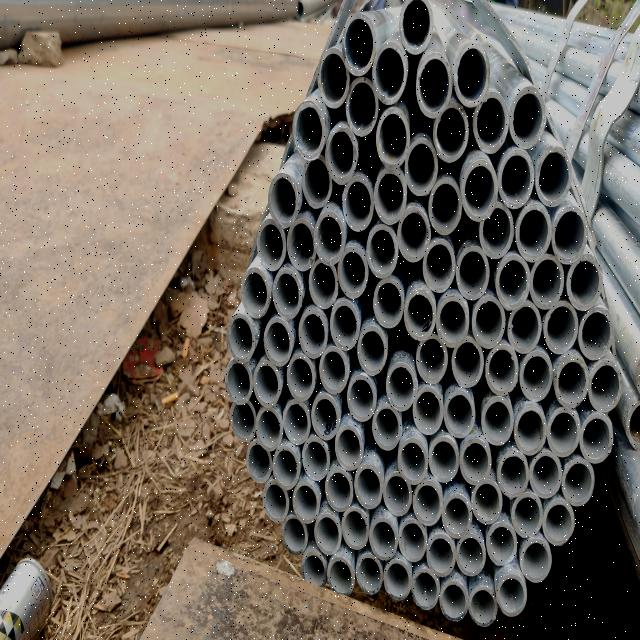pipe: (415, 48, 453, 120), (508, 84, 548, 152), (369, 41, 408, 109), (534, 146, 574, 210), (454, 40, 489, 112), (496, 146, 534, 212), (403, 135, 442, 199), (462, 158, 499, 224), (433, 99, 471, 163), (291, 99, 327, 164), (344, 72, 380, 136), (375, 104, 411, 168), (553, 202, 589, 266), (516, 200, 552, 264), (474, 89, 509, 154), (341, 10, 375, 76), (318, 44, 352, 110), (342, 170, 377, 233), (566, 253, 604, 311), (494, 252, 532, 310), (471, 294, 509, 352), (374, 162, 408, 226), (428, 174, 463, 236), (578, 409, 616, 466), (397, 204, 432, 264), (480, 202, 516, 260), (434, 292, 470, 349), (455, 244, 490, 302), (543, 298, 579, 354), (554, 352, 590, 408), (450, 334, 486, 390), (560, 454, 596, 509), (403, 286, 438, 342), (586, 362, 624, 413), (398, 0, 433, 55), (529, 255, 564, 310), (327, 124, 358, 186), (580, 307, 614, 363), (529, 448, 563, 504), (366, 222, 400, 278), (546, 404, 581, 458), (442, 388, 477, 442), (268, 171, 300, 229), (314, 208, 346, 266), (286, 215, 318, 273), (337, 245, 370, 301), (514, 401, 548, 455), (507, 300, 541, 354), (485, 343, 519, 397), (480, 394, 514, 448), (422, 238, 456, 292), (398, 427, 428, 488), (458, 435, 493, 487), (302, 152, 332, 212), (272, 267, 304, 323), (355, 324, 388, 378), (298, 303, 330, 358), (256, 215, 286, 273), (496, 448, 530, 499), (384, 361, 418, 412), (542, 499, 578, 547), (521, 348, 553, 402), (416, 330, 448, 384), (240, 266, 272, 320), (262, 314, 294, 368), (372, 276, 404, 330), (319, 342, 351, 396), (329, 297, 360, 352), (520, 536, 554, 586), (510, 489, 544, 539), (412, 385, 445, 436), (370, 403, 404, 452), (346, 373, 380, 422), (225, 310, 256, 363), (494, 570, 528, 618), (382, 468, 413, 519), (486, 521, 520, 567), (470, 477, 504, 523), (428, 433, 458, 485), (308, 258, 338, 310), (441, 492, 474, 538), (253, 358, 283, 408), (286, 351, 316, 401), (282, 396, 312, 446), (334, 420, 364, 470), (354, 460, 384, 510), (426, 532, 458, 578), (398, 514, 428, 563), (368, 513, 398, 562), (342, 503, 372, 552), (291, 478, 321, 527), (225, 356, 253, 408), (412, 478, 442, 526), (311, 394, 341, 442), (323, 464, 353, 512), (246, 436, 274, 486), (456, 530, 486, 576), (469, 584, 499, 629), (396, 518, 428, 560), (383, 555, 411, 603), (256, 404, 284, 452), (302, 435, 330, 483), (326, 555, 356, 599), (314, 509, 342, 555), (263, 478, 291, 524), (412, 565, 439, 612), (439, 580, 469, 622), (355, 552, 383, 596), (302, 546, 328, 590), (230, 399, 256, 442), (282, 514, 308, 556), (625, 400, 640, 456)
